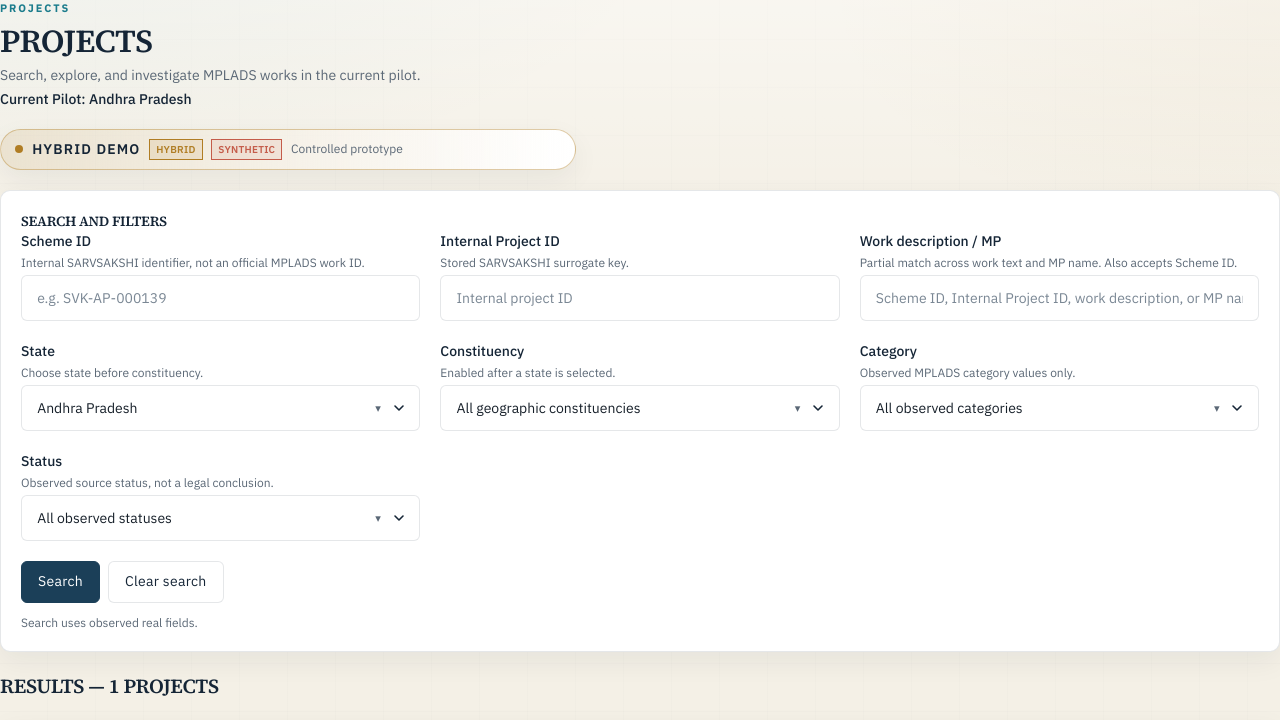
it: Search page text search › does not search on each keystroke; Search and Enter commit the query
Type "school" into the field with placeholder "Scheme ID" at [1059, 298], box x1=860 y1=275 x2=1259 y2=321
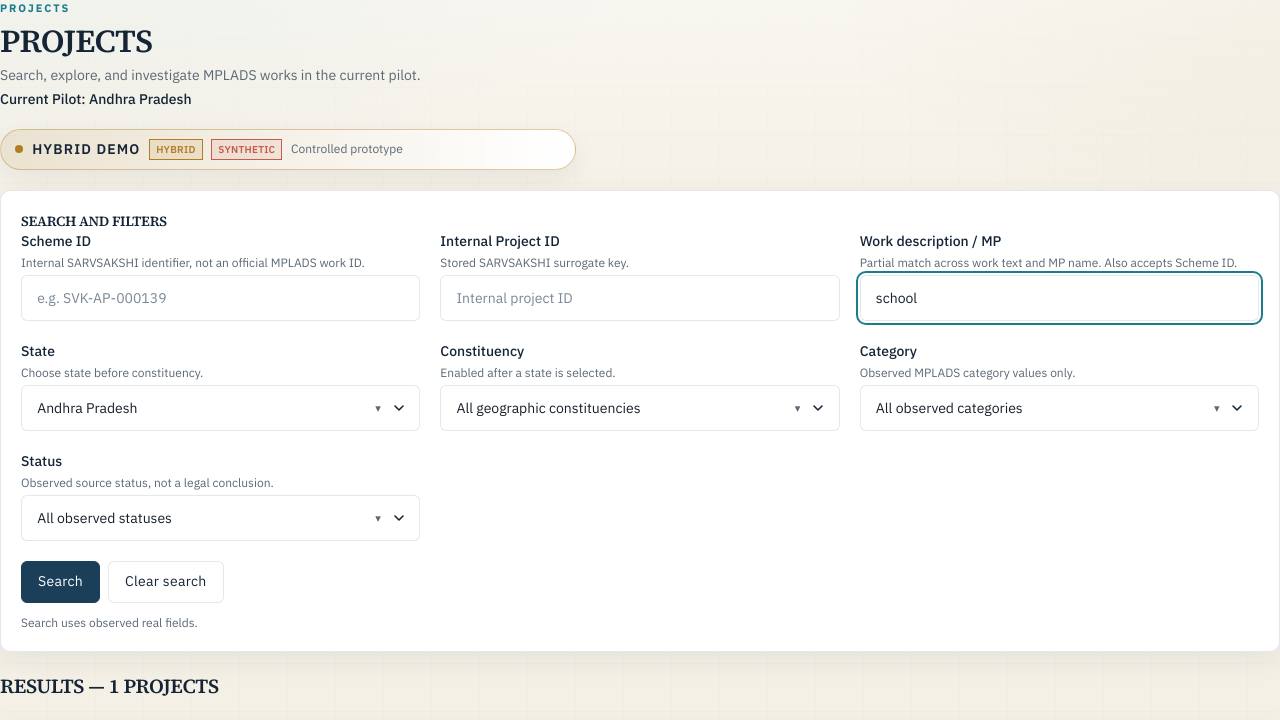
Click the button "Search" at [60, 582], box x1=21 y1=561 x2=100 y2=603
(page scrolled)
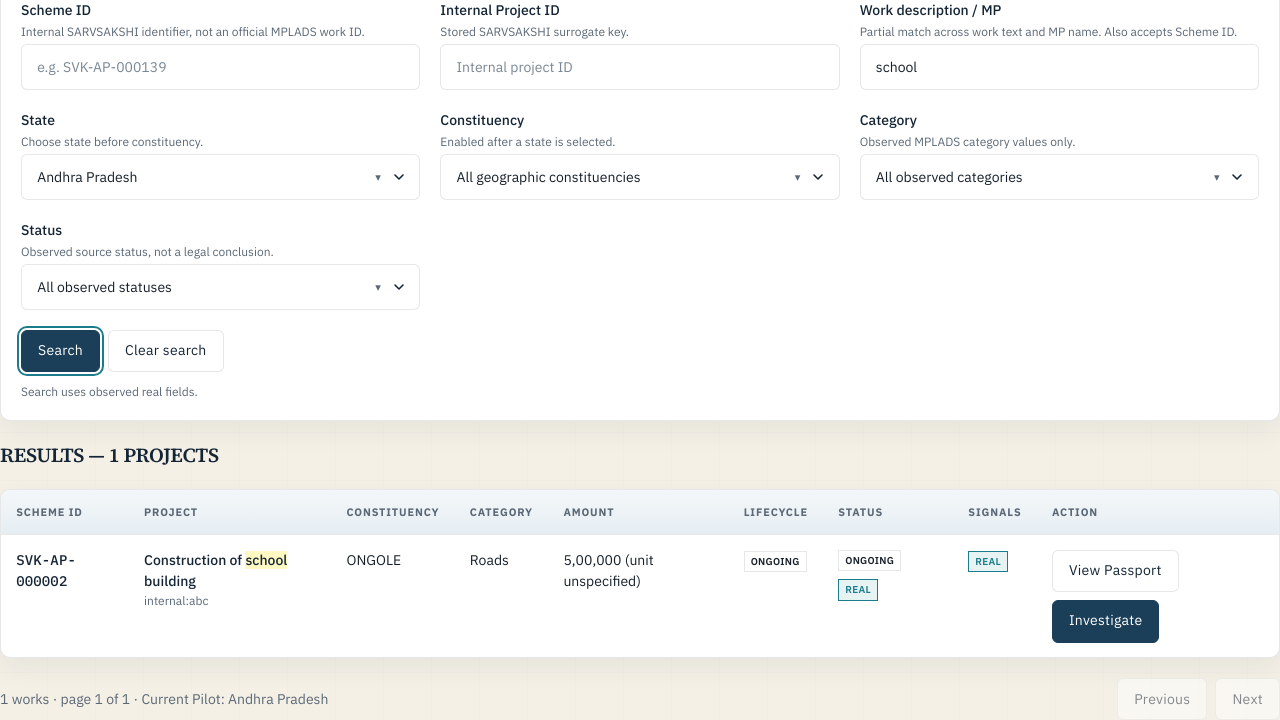
Result: the link "Construction of school building" is shown at x1=144 y1=551 x2=287 y2=590
